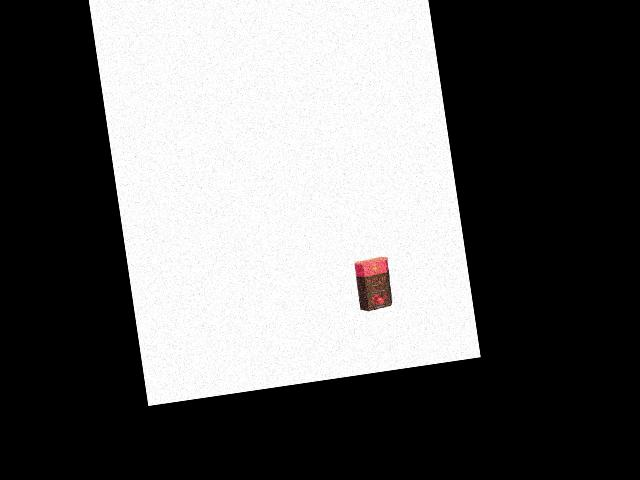chocolate: (351, 254, 395, 317)
